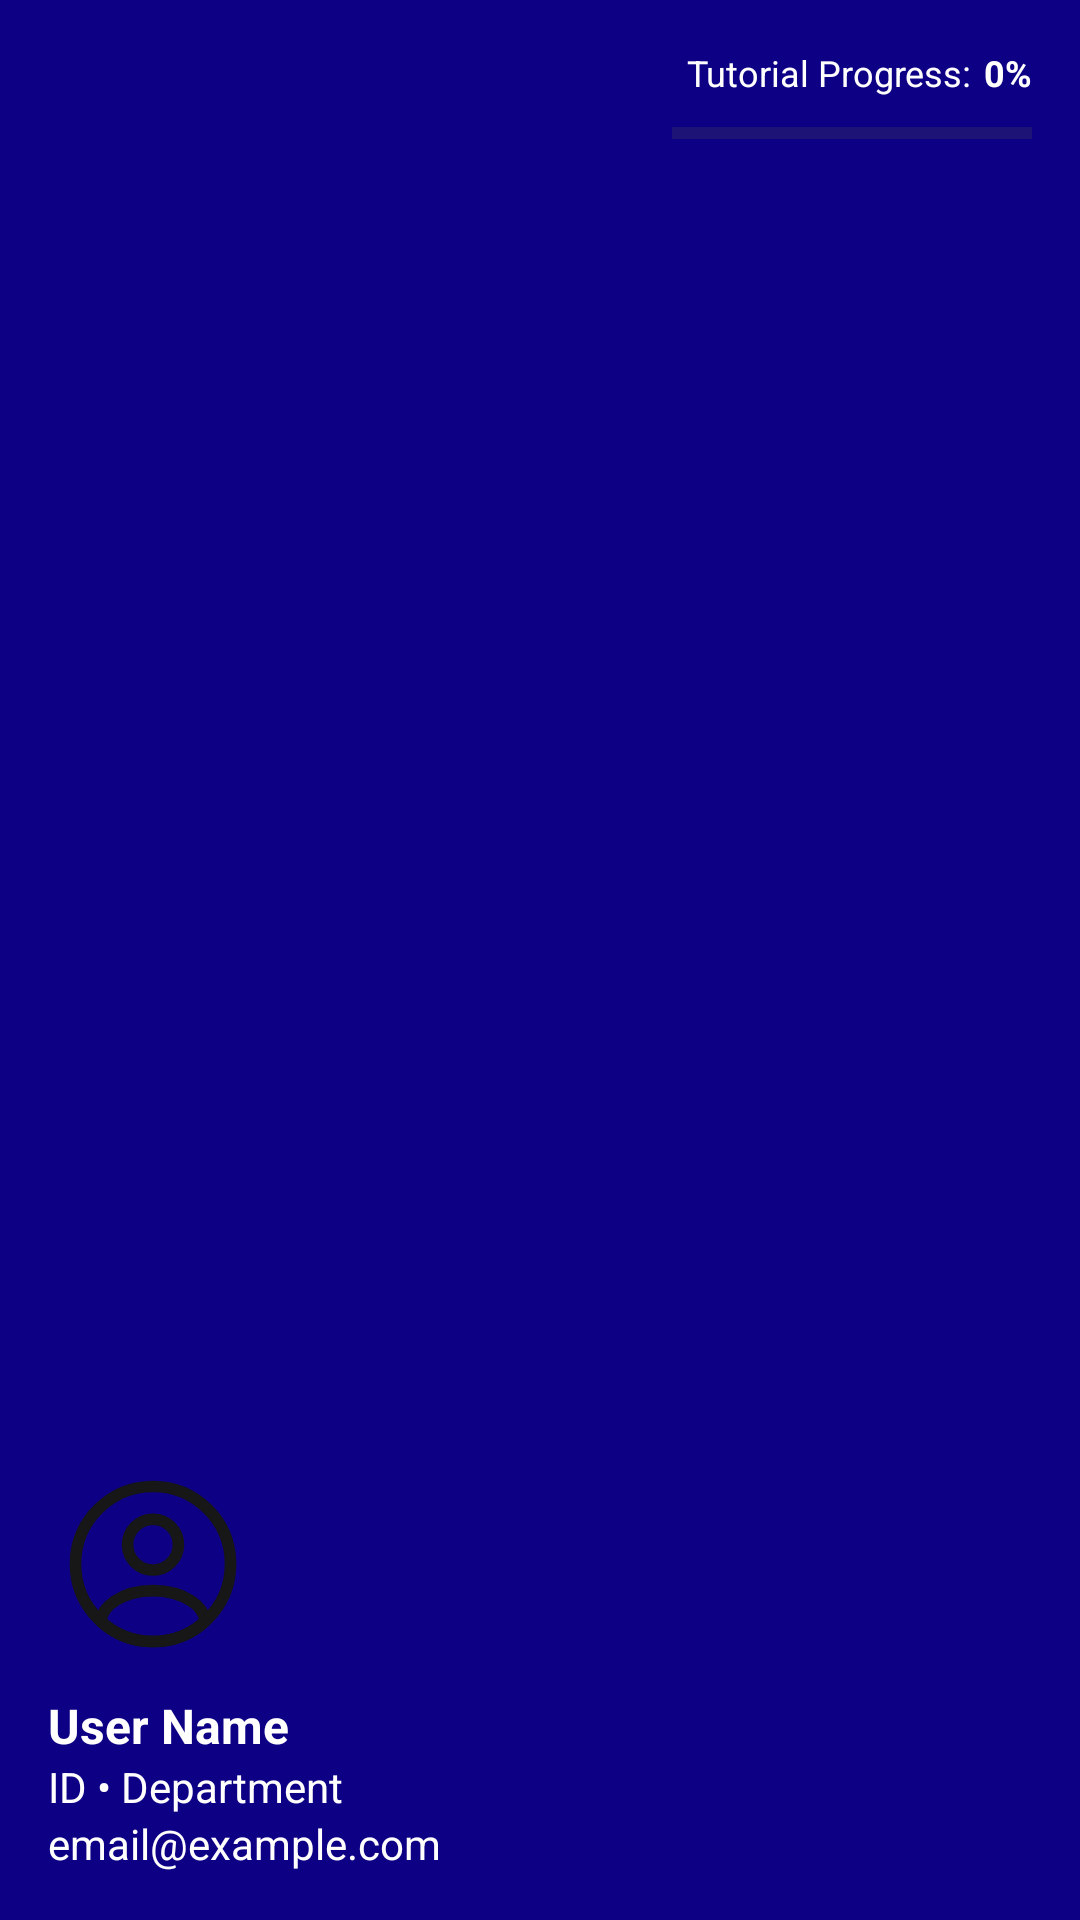

Locate icon controls on the screen. Image size 1080 × 1920, boxes as (x1, y1, x2, y2).
profile: (69, 1480, 237, 1648)
